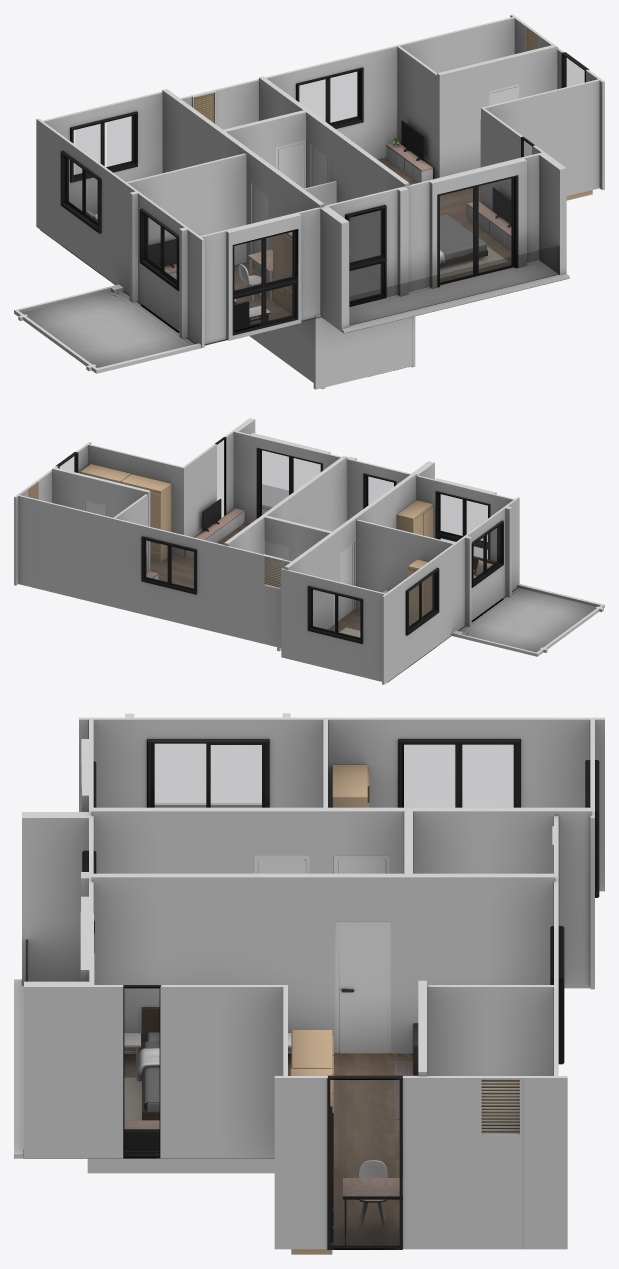
Rendered from Room_4.gltf.
The picture shows the model from 3 angles, top to bottom: view 1: azimuth 30°, elevation 25°; view 2: azimuth 150°, elevation 25°; view 3: azimuth 270°, elevation 25°; orthographic projection. The views are drawn at different scales.
Visible parts, largest first — view 1: wall, windowGlass, windowFrame, Ground, BalconyGlass, BalconyFloor, door, Cabinet, bed, TV, wardrobe, carpet (+1 smaller); view 2: wall, windowGlass, Ground, windowFrame, wardrobe, door, Cabinet, small window, TV, BalconyGlass, bed; view 3: wall, windowGlass, Ground, windowFrame, door, wardrobe, bed, BalconyFloor, small window, L Table, carpet, Cabinet (+1 smaller).
Part boxes in pixels (<box>): wall: <box>14,14,604,389</box>; windowGlass: <box>67,57,584,329</box>; windowFrame: <box>60,52,589,335</box>; Ground: <box>22,157,511,367</box>; BalconyGlass: <box>349,246,558,324</box>; BalconyFloor: <box>322,260,569,333</box>; door: <box>251,84,519,277</box>; Cabinet: <box>164,143,511,279</box>; bed: <box>86,210,487,328</box>; TV: <box>148,120,511,267</box>; wardrobe: <box>273,120,592,314</box>; carpet: <box>234,246,508,302</box>; wall: <box>14,418,604,684</box>; windowGlass: <box>60,439,499,637</box>; Ground: <box>150,522,595,682</box>; windowFrame: <box>56,437,503,643</box>; wardrobe: <box>80,464,433,625</box>; door: <box>83,499,353,619</box>; Cabinet: <box>146,508,244,579</box>; small window: <box>28,483,280,587</box>; TV: <box>146,499,221,572</box>; BalconyGlass: <box>262,485,288,508</box>; bed: <box>339,556,496,637</box>; wall: <box>22,713,604,1249</box>; windowGlass: <box>124,744,513,1246</box>; Ground: <box>85,987,413,1248</box>; windowFrame: <box>82,739,599,1249</box>; door: <box>253,855,390,1053</box>; wardrobe: <box>291,765,369,1254</box>; bed: <box>136,871,253,1120</box>; BalconyFloor: <box>14,979,84,1158</box>; small window: <box>481,1079,519,1132</box>; L Table: <box>343,1178,402,1245</box>; carpet: <box>124,1061,418,1120</box>; Cabinet: <box>124,1120,159,1154</box>.
Size of the model in its own units: 15.02 by 4.63 by 8.44.
22 materials, 22 textured.
